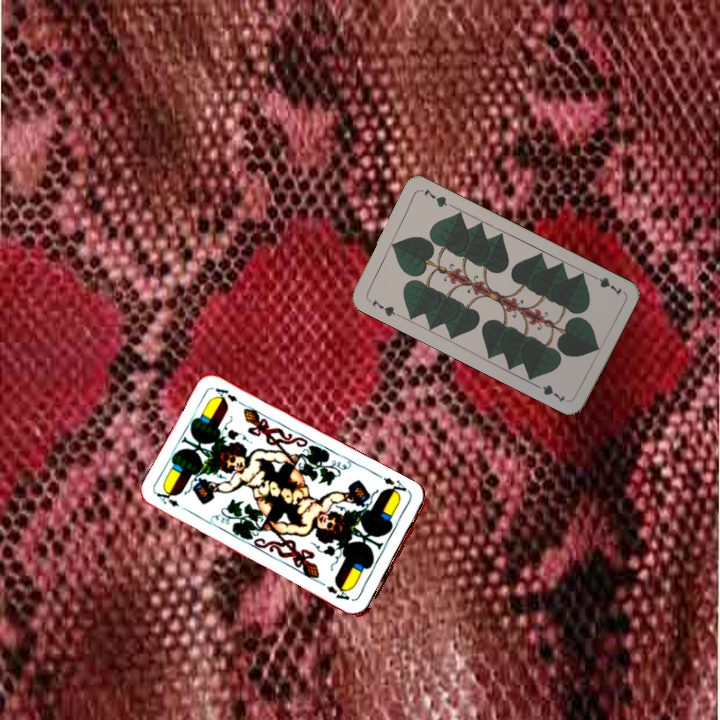EA: (377, 471, 414, 502), (153, 488, 191, 514)
G7: (587, 271, 624, 298), (364, 294, 401, 319)
